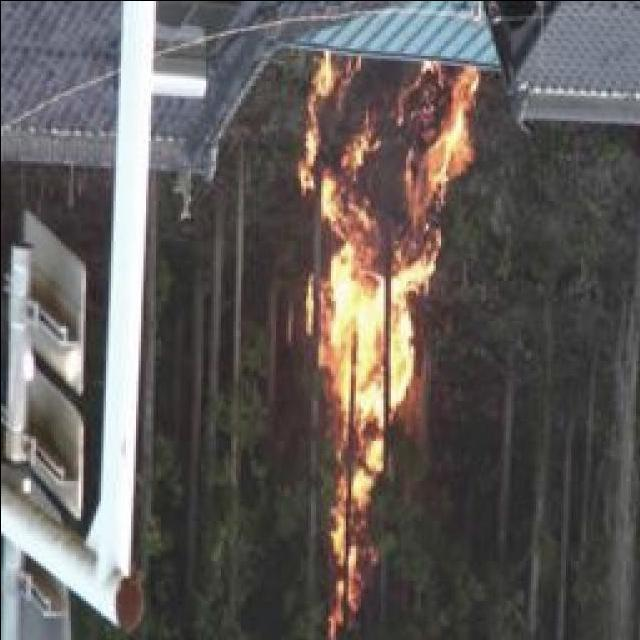Fire: (299, 54, 471, 632)
